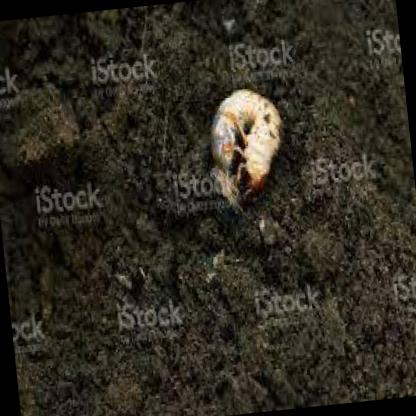root grubs: (209, 88, 284, 194)
